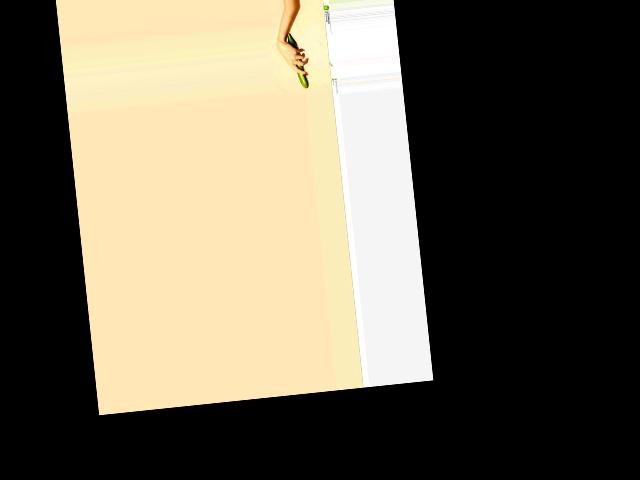cucumber: (287, 30, 309, 89)
